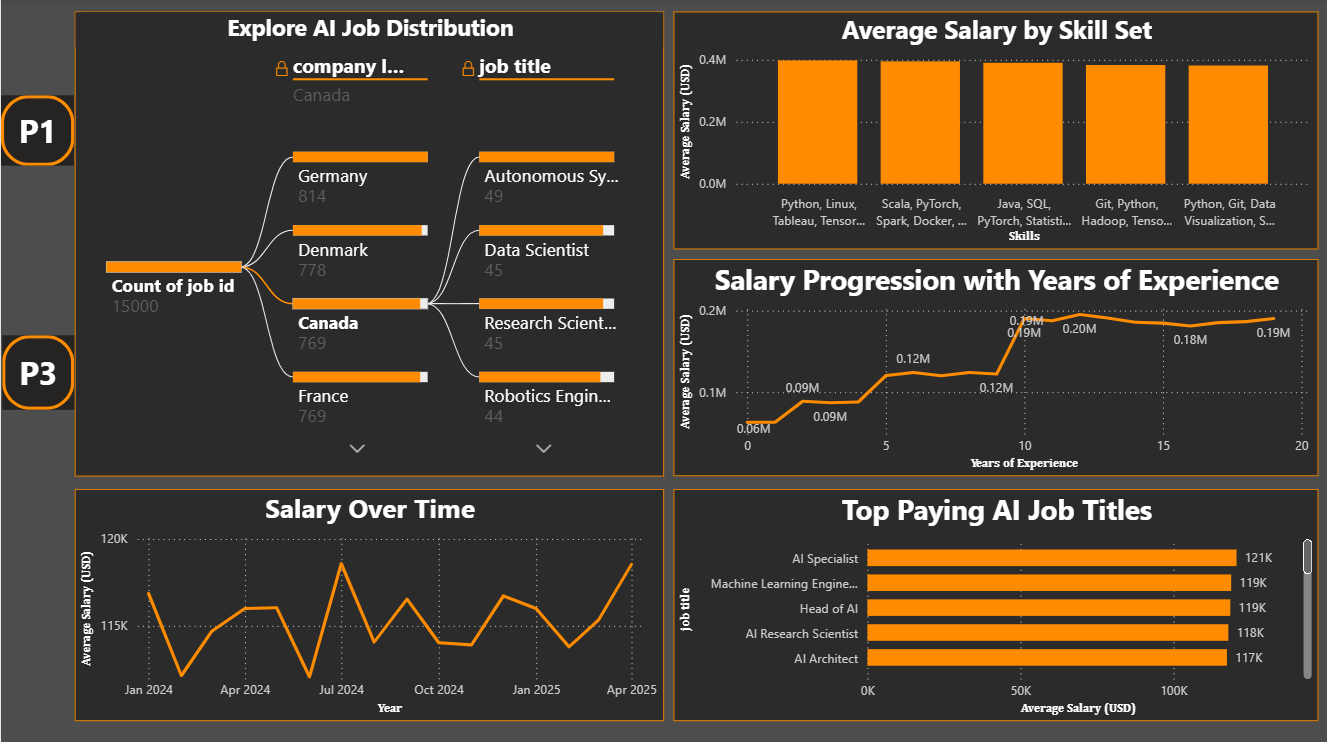

Layout of this report page (visuals, bound fields, positions):
{"tool":"powerbi","page":{"name":"Salary and Experience","canvas":[1280,720],"ordinal":1},"visuals":[{"type":"barChart","title":"Top Paying AI Job Titles","fields":{"Y":["Avg(AI jobs.salary (usd))"],"Category":["AI jobs.job title"]},"box":[649.1,472.9,622.5,224.4],"z":0},{"type":"lineChart","title":"Salary Progression with Years of Experience","fields":{"Y":["Avg(AI jobs.salary (usd))"],"Category":["AI jobs.years experience"]},"box":[649.1,250.9,622.5,209.9],"z":1000},{"type":"lineChart","title":"Salary Over Time","fields":{"Y":["Avg(AI jobs.salary (usd))"],"Category":["AI jobs.posting date.Variation.Date Hierarchy.Year","AI jobs.posting date.Variation.Date Hierarchy.Month"]},"box":[70.6,473.3,568.8,224.3],"z":2000},{"type":"lineClusteredColumnComboChart","title":"Average Salary by Skill Set","fields":{"Category":["AI jobs.required skills"],"Y":["Avg(AI jobs.salary (usd))"]},"box":[649.1,12.1,622.5,229.2],"z":3000},{"type":"decompositionTreeVisual","title":"Explore AI Job Distribution\n","fields":{"Analyze":["CountNonNull(AI jobs.job id)"],"ExplainBy":["AI jobs.company location","AI jobs.job title"]},"box":[70.6,12.4,568.8,448.6],"z":3001},{"type":"actionButton","box":[0,92.9,70.6,68.2],"z":3002},{"type":"actionButton","title":"P3","box":[1.2,324.6,69.4,71.9],"z":3003}]}

Visuals, with their boxes in screenshot pixels (x1, y1, x2, y2), scaled from the page's 1280x720 canvas onto the 1327x742 screenshot:
"Top Paying AI Job Titles" barChart: bbox=(673, 487, 1318, 719)
"Salary Progression with Years of Experience" lineChart: bbox=(673, 259, 1318, 475)
"Salary Over Time" lineChart: bbox=(73, 488, 663, 719)
"Average Salary by Skill Set" lineClusteredColumnComboChart: bbox=(673, 12, 1318, 249)
"Explore AI Job Distribution
" decompositionTreeVisual: bbox=(73, 13, 663, 475)
actionButton: bbox=(0, 96, 73, 166)
"P3" actionButton: bbox=(1, 335, 73, 409)
